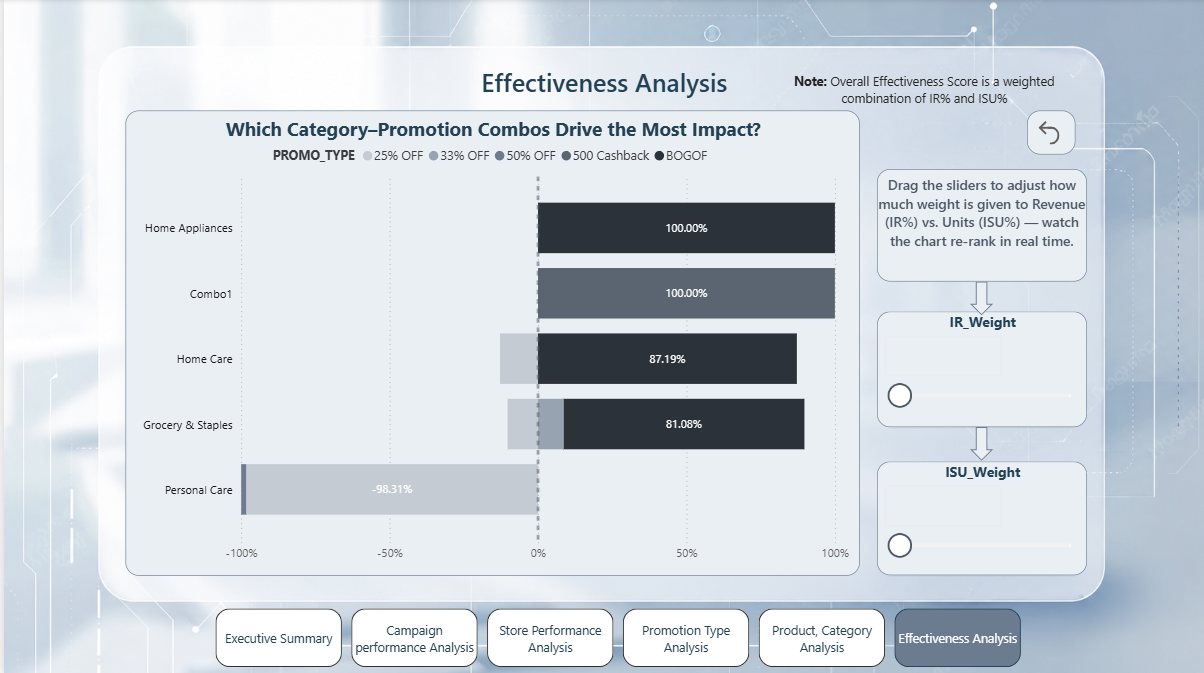

This screenshot's page, from the dashboard's own definition file:
{"tool":"powerbi","page":{"name":"Effectiveness Analysis","canvas":[1280,720],"ordinal":5},"visuals":[{"type":"textbox","box":[247.6,47.2,784.3,85],"z":0},{"type":"hundredPercentStackedBarChart","title":"Which Category–Promotion Combos Drive the Most Impact?","fields":{"Category":["DIM_PRODUCTS.CATEGORY"],"Series":["FACT_EVENTS.PROMO_TYPE"],"Y":["FACT_EVENTS.Overall Effectiveness"]},"box":[128.5,119.1,778.6,493.2],"z":1000},{"type":"slicer","title":"IR_Weight","fields":{"Values":["IR_WEIGHT.IR_WEIGHT"]},"box":[926,332.6,223,122.8],"z":2000},{"type":"pageNavigator","box":[225,647.4,854,62],"z":2000},{"type":"slicer","title":"ISU_Weight","fields":{"Values":["ISU_Weight.ISU_Weight"]},"box":[926,491.3,223,120.9],"z":3000},{"type":"shape","box":[1024.3,300.5,24.6,35.9],"z":4000},{"type":"actionButton","box":[1084.7,119.1,51,47],"z":5000},{"type":"shape","box":[1024.3,455.4,24.6,35.9],"z":5000},{"type":"textbox","box":[926,181.4,223,119.1],"z":6000},{"type":"textbox","box":[803.3,73.2,345.2,58.9],"z":6001}]}

Visuals, with their boxes in screenshot pixels (x1, y1, x2, y2), scaled from the page's 1280x720 canvas onto the 1204x673 screenshot:
textbox: rect(233, 44, 971, 124)
"Which Category–Promotion Combos Drive the Most Impact?" hundredPercentStackedBarChart: rect(121, 111, 853, 572)
"IR_Weight" slicer: rect(871, 311, 1081, 426)
pageNavigator: rect(212, 605, 1015, 663)
"ISU_Weight" slicer: rect(871, 459, 1081, 572)
shape: rect(963, 281, 987, 314)
actionButton: rect(1020, 111, 1068, 155)
shape: rect(963, 426, 987, 459)
textbox: rect(871, 170, 1081, 281)
textbox: rect(756, 68, 1080, 123)
